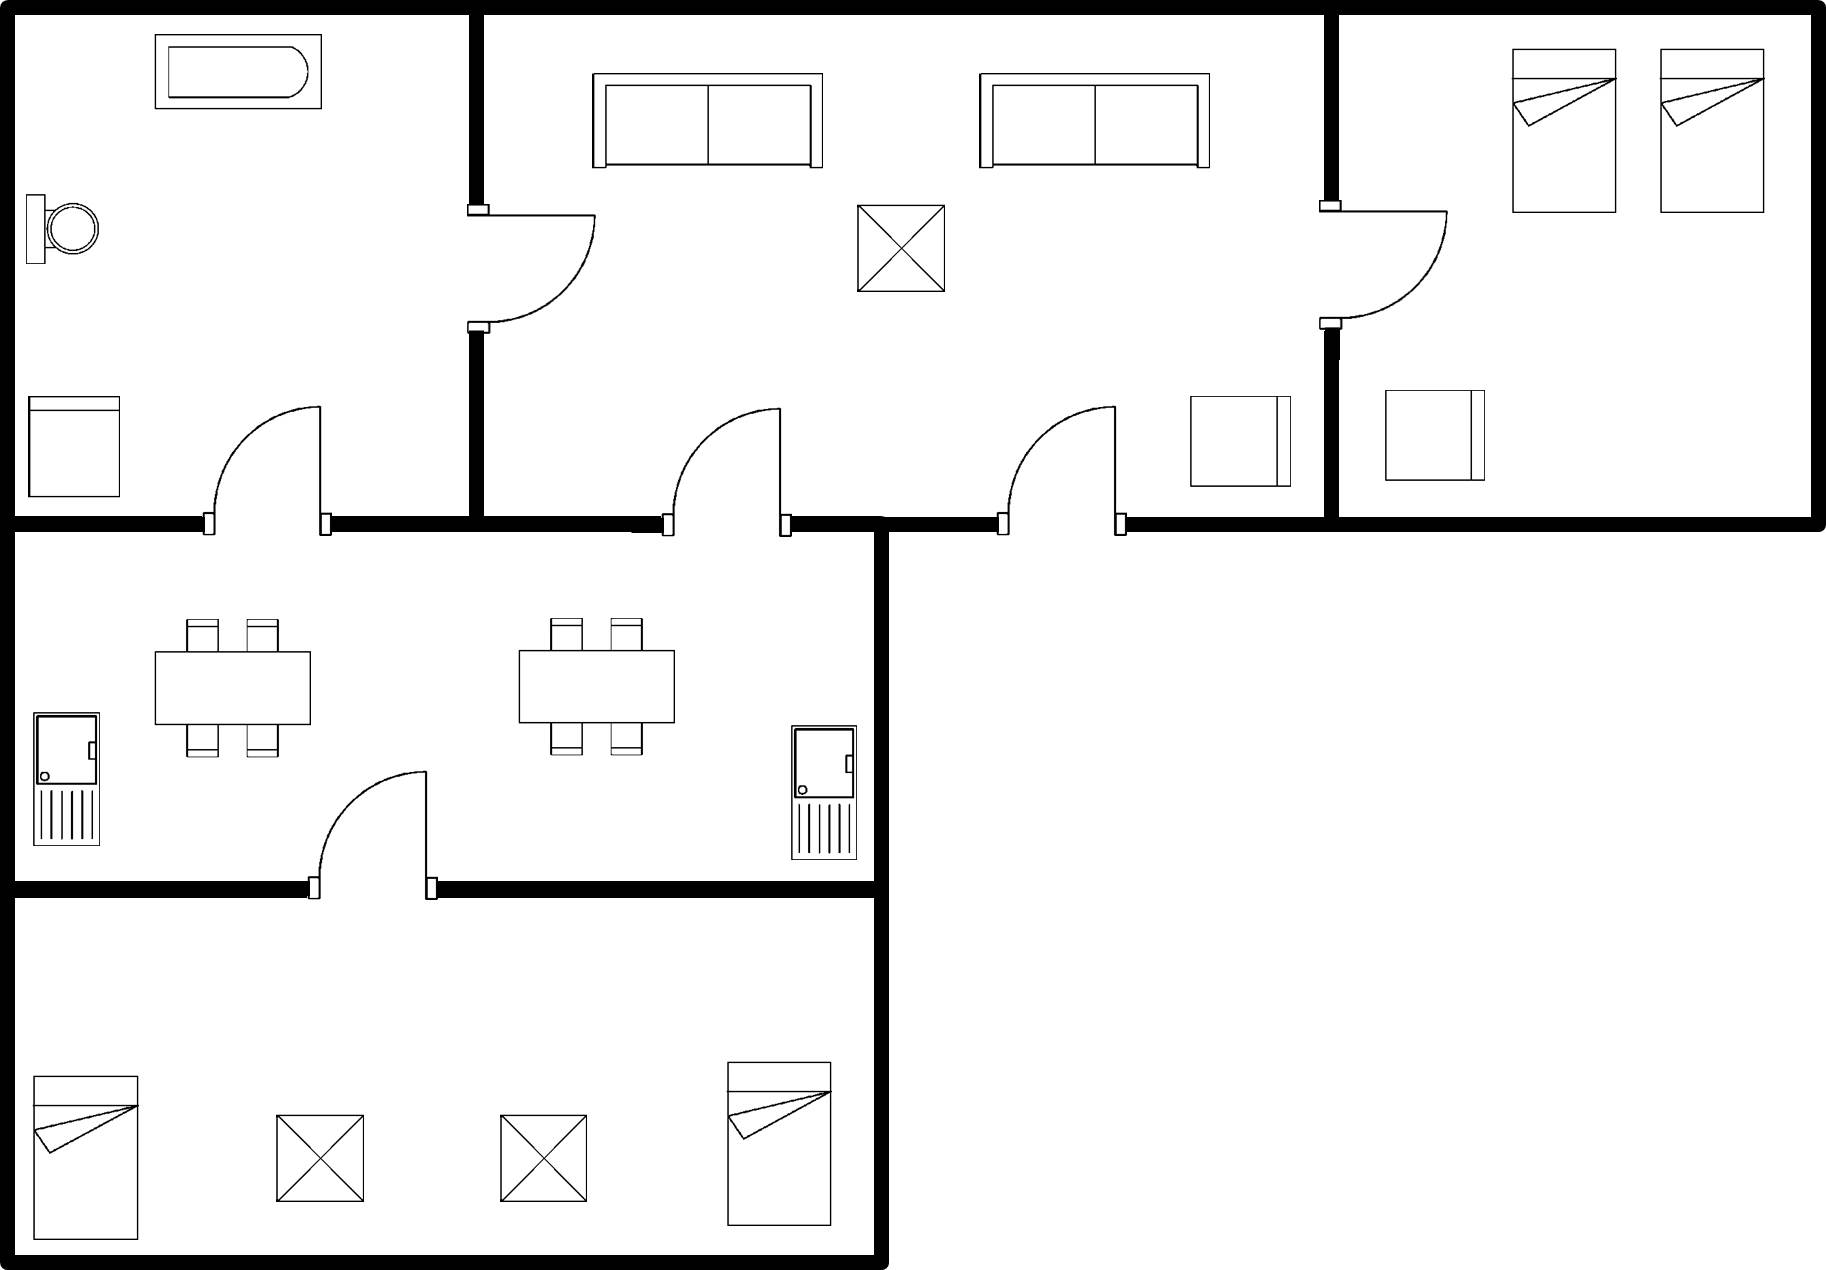bed: (1652, 38, 1777, 224), (24, 1065, 151, 1246), (714, 1051, 839, 1234), (1503, 37, 1626, 221)
coffee_table: (263, 1103, 374, 1215), (847, 194, 956, 304), (492, 1103, 596, 1211)
dining_table: (148, 607, 321, 769), (511, 609, 685, 765)
large_sink: (20, 183, 108, 276)
large_sofa: (970, 65, 1216, 180), (585, 67, 833, 178)
sink: (26, 707, 112, 856), (783, 716, 865, 872)
small_sofa: (20, 386, 133, 508), (1181, 387, 1303, 496), (1377, 378, 1492, 491)
tub: (147, 24, 338, 122)
